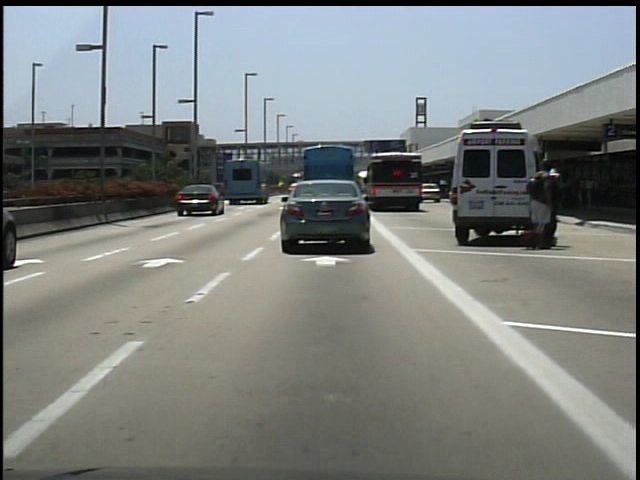person: (528, 163, 560, 250), (547, 169, 565, 246)
